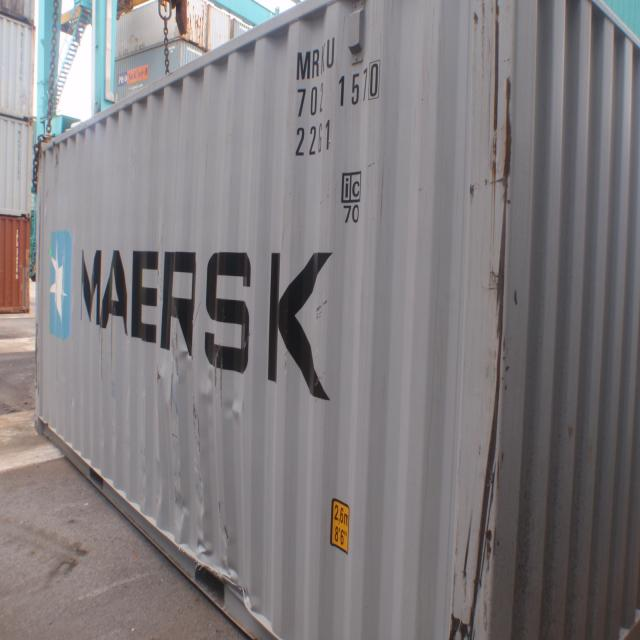dent: (232, 584, 286, 640)
